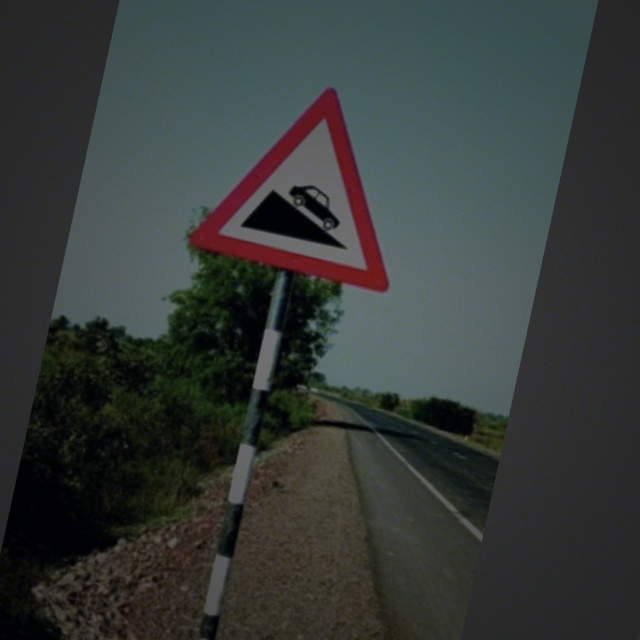Steep_Descent: (199, 66, 430, 294)
